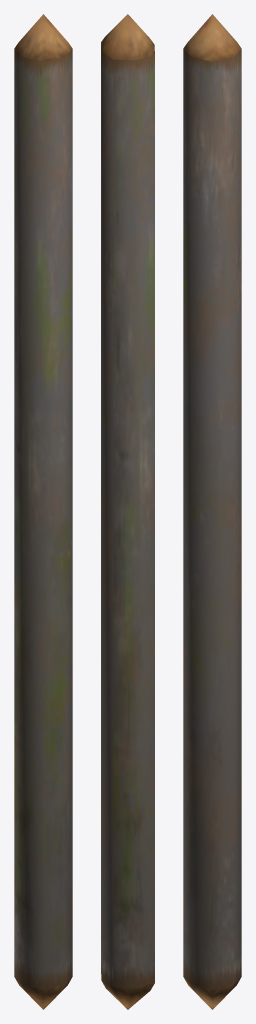
The model's file is Beech_log.fbx.
3 views of the same model, side by side, from view 1: azimuth 90°, elevation 25°; view 2: azimuth 150°, elevation 25°; view 3: azimuth 270°, elevation 25° (orthographic).
Visible parts, largest first — view 1: log; view 2: log; view 3: log.
Part boxes in pixels (<box>): log: <box>14,14,72,1009</box>; log: <box>101,14,154,1009</box>; log: <box>183,14,241,1009</box>.
Bounding box in the file's own units: 95.47 × 1684 × 89.82.
Materials: 1 (1 with a texture image).
